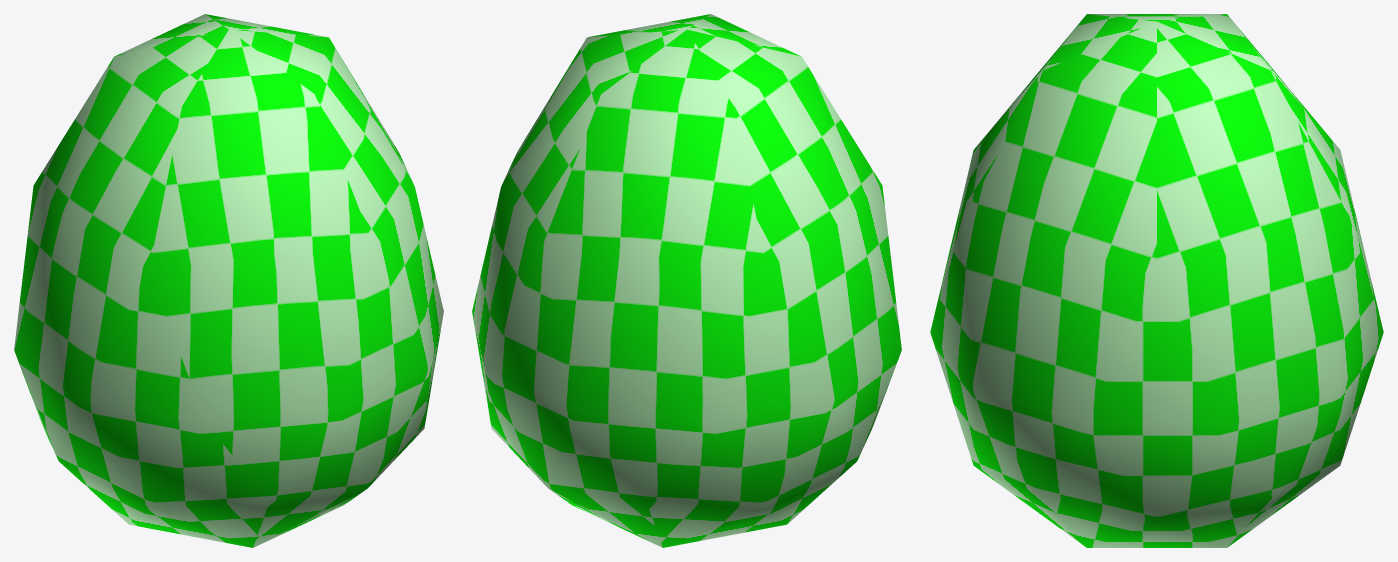
Rendered from egg_green.glb.
The picture shows the model from 3 angles, left to right: view 1: azimuth 30°, elevation 25°; view 2: azimuth 150°, elevation 25°; view 3: azimuth 270°, elevation 25°; orthographic projection. The views are drawn at different scales.
Parts seen in each view (by area): view 1: mesh_egg; view 2: mesh_egg; view 3: mesh_egg.
Boxes of the visible parts, x1,y1,x2,y2 form: mesh_egg: (14, 14, 443, 547); mesh_egg: (472, 14, 901, 547); mesh_egg: (930, 14, 1383, 547).
Size of the model in its own units: 0.7608 by 1 by 0.8.
1 material, 1 textured.
